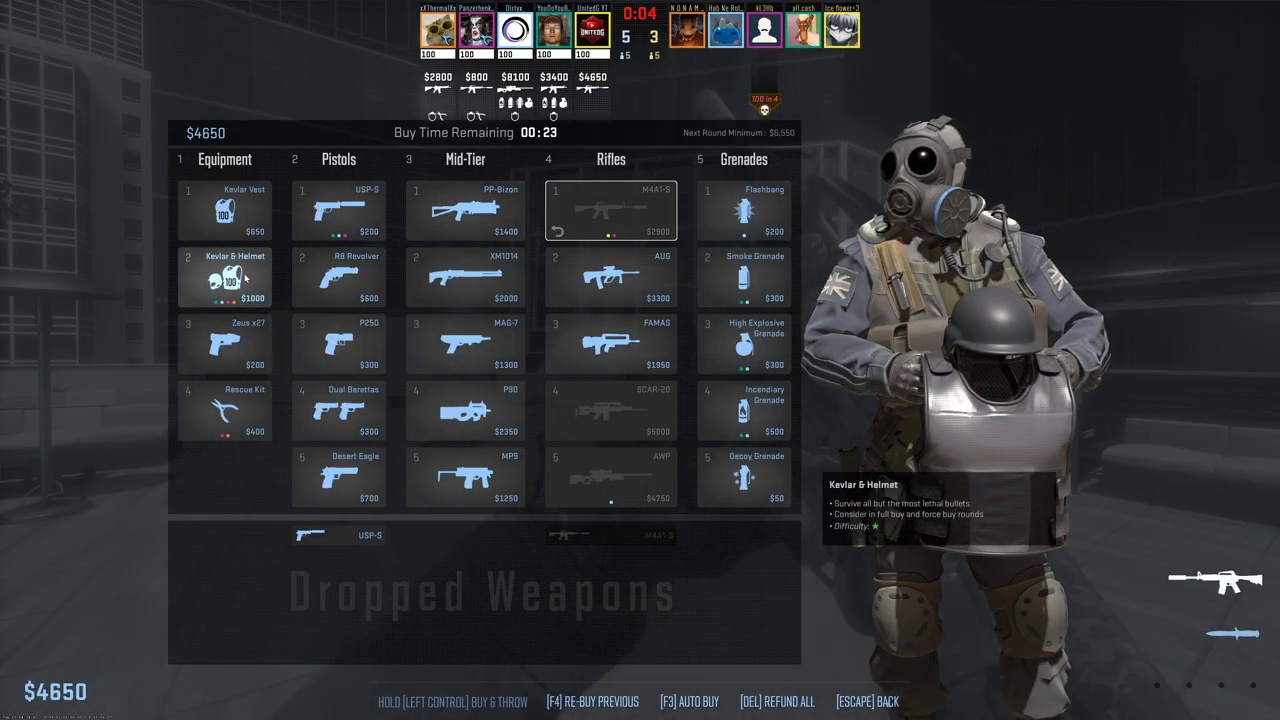CT: (850, 123, 1078, 719)
